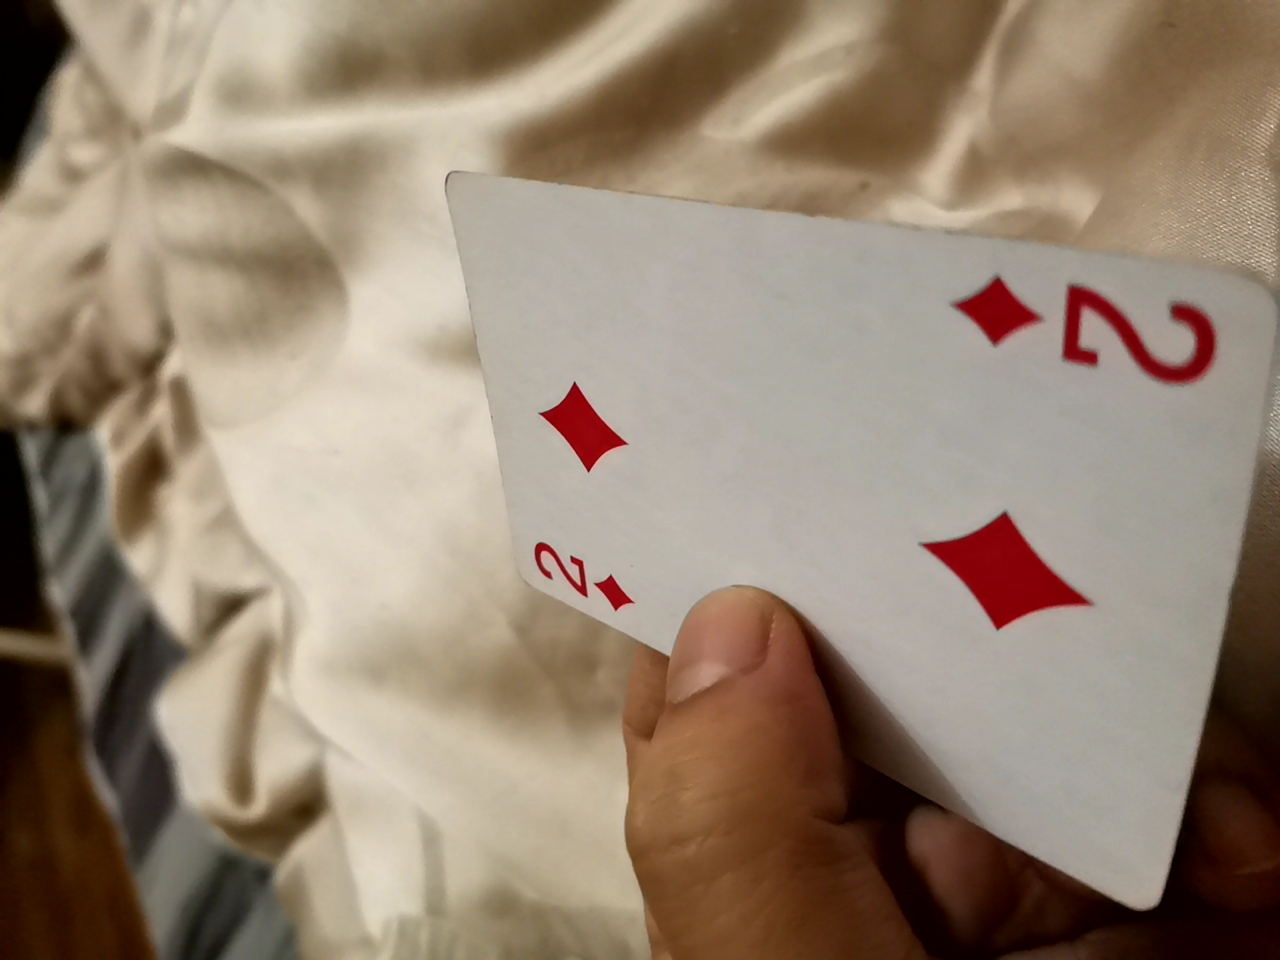fk 2: (399, 149, 1266, 906)
